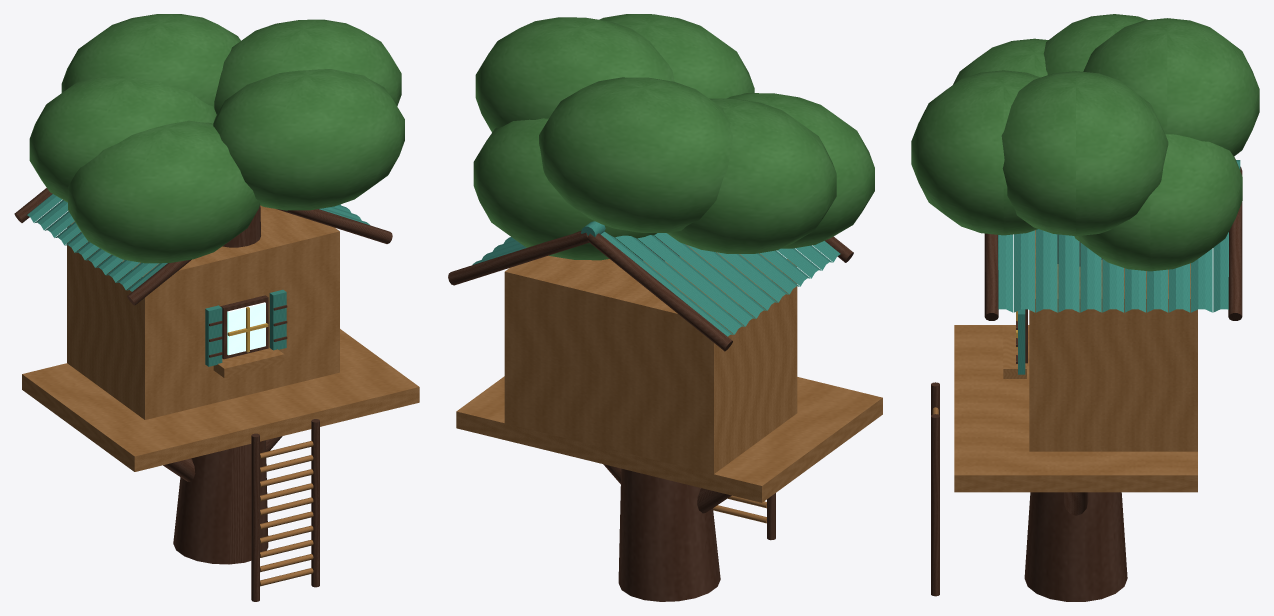
File: treehouse.glb
3 renders of one model, left to right at view 1: azimuth 30°, elevation 25°; view 2: azimuth 150°, elevation 25°; view 3: azimuth 270°, elevation 25°, orthographic. The views are drawn at different scales.
Parts seen in each view (by area): view 1: treehouse; view 2: treehouse; view 3: treehouse.
Boxes of the visible parts, left/top/right/bottom form: treehouse: left=14, top=14, right=419, bottom=601; treehouse: left=448, top=14, right=882, bottom=601; treehouse: left=911, top=14, right=1259, bottom=601.
Bounding box in the file's own units: 4.47 × 6.34 × 3.72.
Materials: 6 (6 with a texture image).
